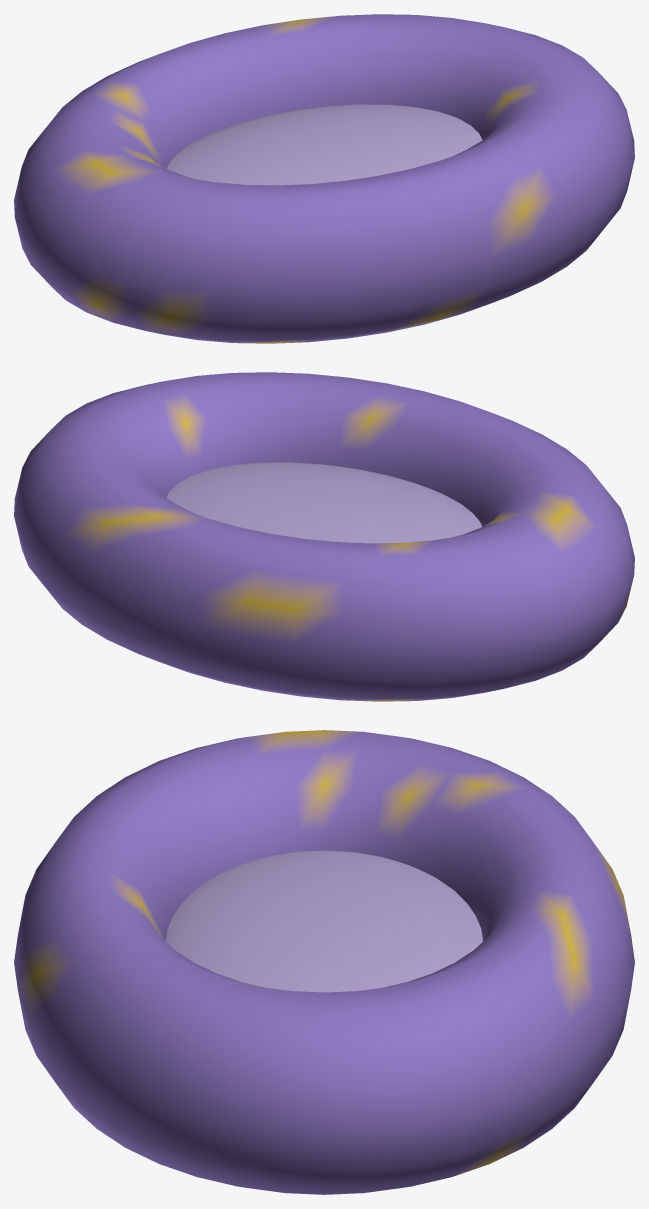
The model's file is furn_goat_bed.glb.
The picture shows the model from 3 angles, top to bottom: view 1: azimuth 30°, elevation 25°; view 2: azimuth 150°, elevation 25°; view 3: azimuth 270°, elevation 25°; orthographic projection. The views are drawn at different scales.
Parts seen in each view (by area): view 1: furn_goat_bed_main; view 2: furn_goat_bed_main; view 3: furn_goat_bed_main.
Part boxes in pixels (left/top/right/bottom): furn_goat_bed_main: left=14, top=14, right=634, bottom=343; furn_goat_bed_main: left=14, top=372, right=634, bottom=701; furn_goat_bed_main: left=14, top=730, right=634, bottom=1194.
Bounding box in the file's own units: 0.72 × 0.1755 × 0.54.
